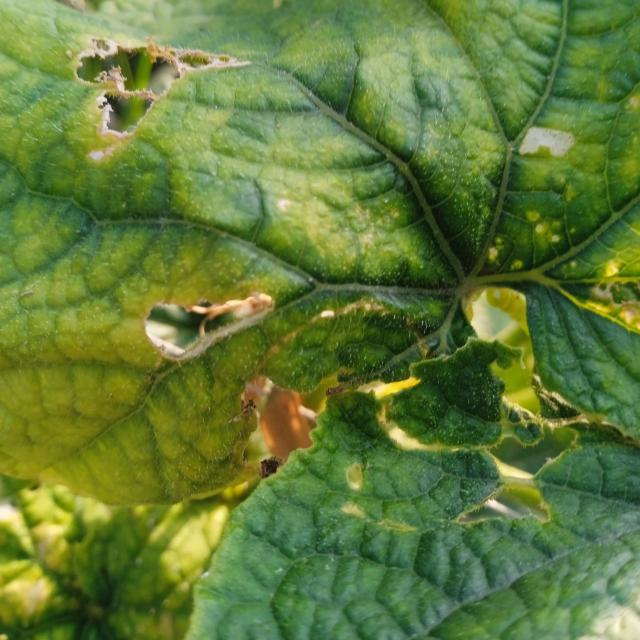cucumber_anthracnose: (23, 19, 631, 528)
